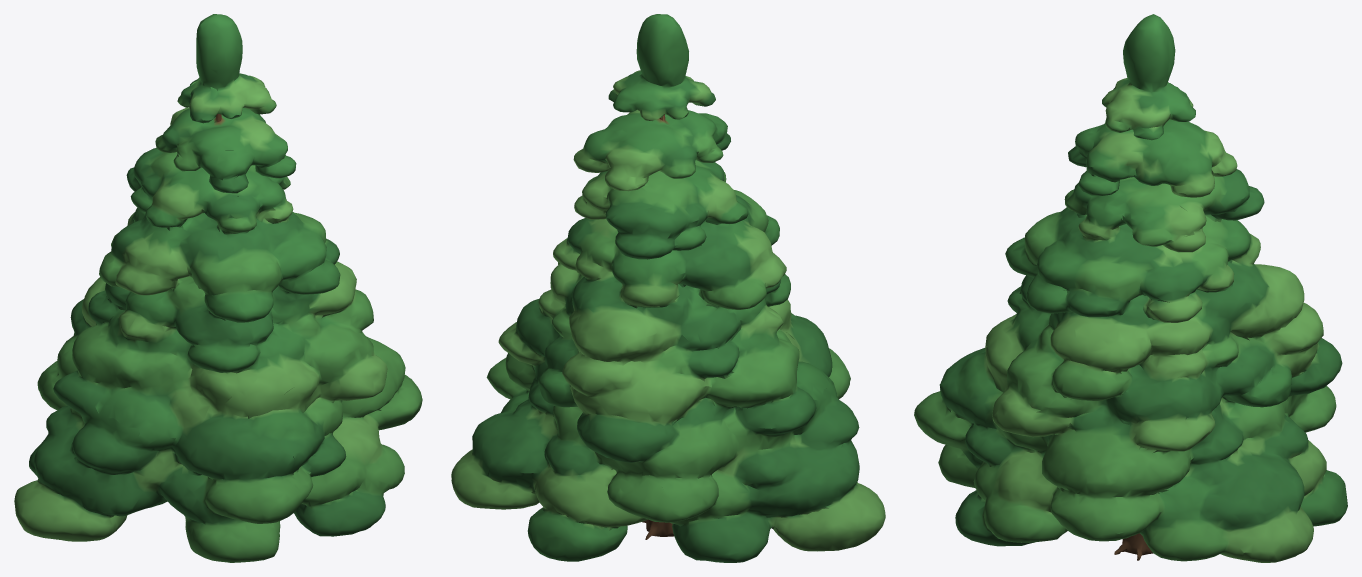
File: pine_mature_tall_straight_dense.glb
3 renders of one model, left to right at view 1: azimuth 30°, elevation 25°; view 2: azimuth 150°, elevation 25°; view 3: azimuth 270°, elevation 25°, orthographic. The views are drawn at different scales.
Parts seen in each view (by area): view 1: pine_mature_tall_straight_dense_LOD0; view 2: pine_mature_tall_straight_dense_LOD0; view 3: pine_mature_tall_straight_dense_LOD0.
Part boxes in pixels (box(x1,y1,x2,y2)): pine_mature_tall_straight_dense_LOD0: box(14, 14, 422, 562); pine_mature_tall_straight_dense_LOD0: box(451, 14, 885, 562); pine_mature_tall_straight_dense_LOD0: box(914, 14, 1347, 562).
Size of what is drawn, in the model's own units: 6.04 by 7.55 by 5.61.
